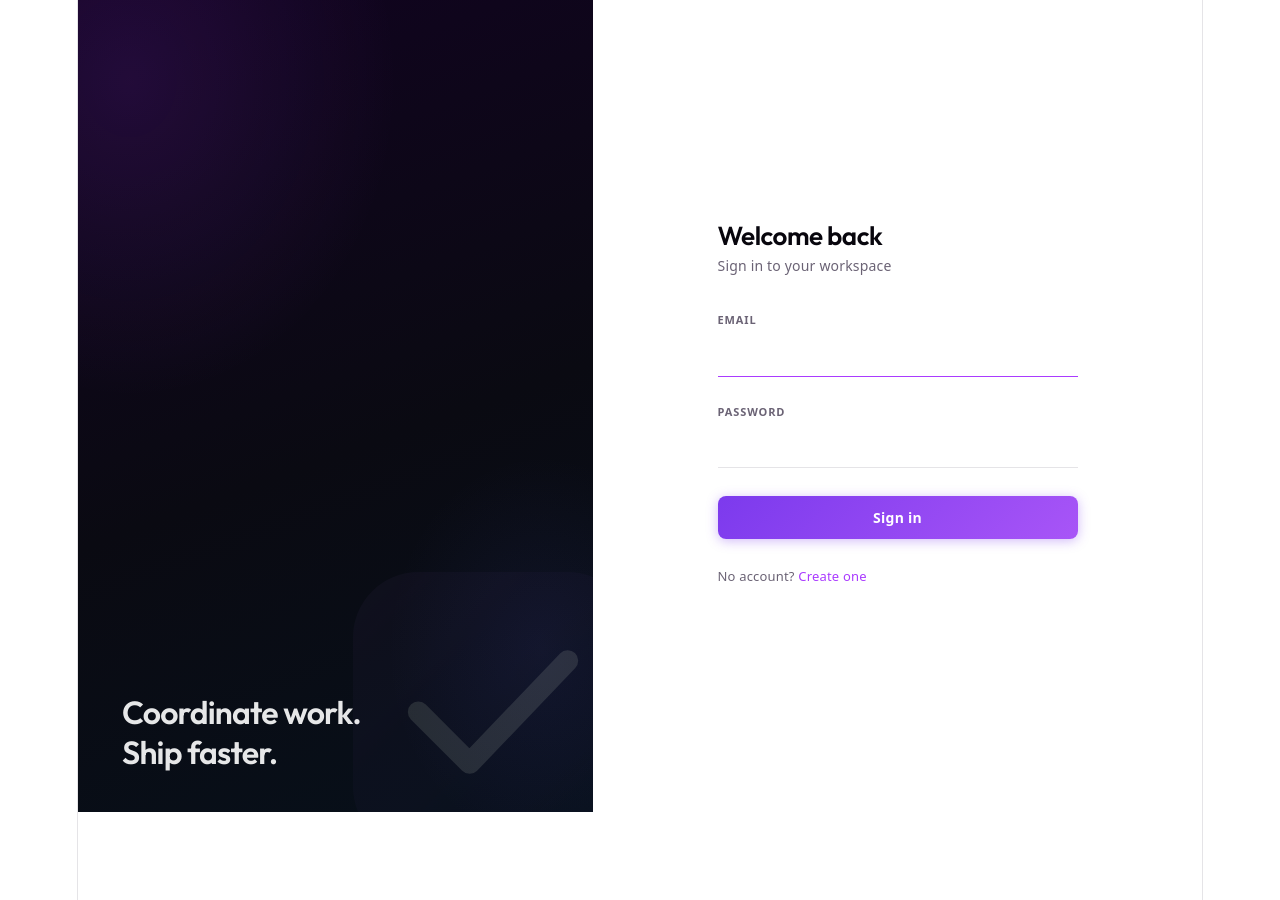
Scenario: LoginPage › shows a generic error on server error
Type "a@b.com" into the field labelled "Email". click: (898,358)
box: [718, 340, 1078, 376]
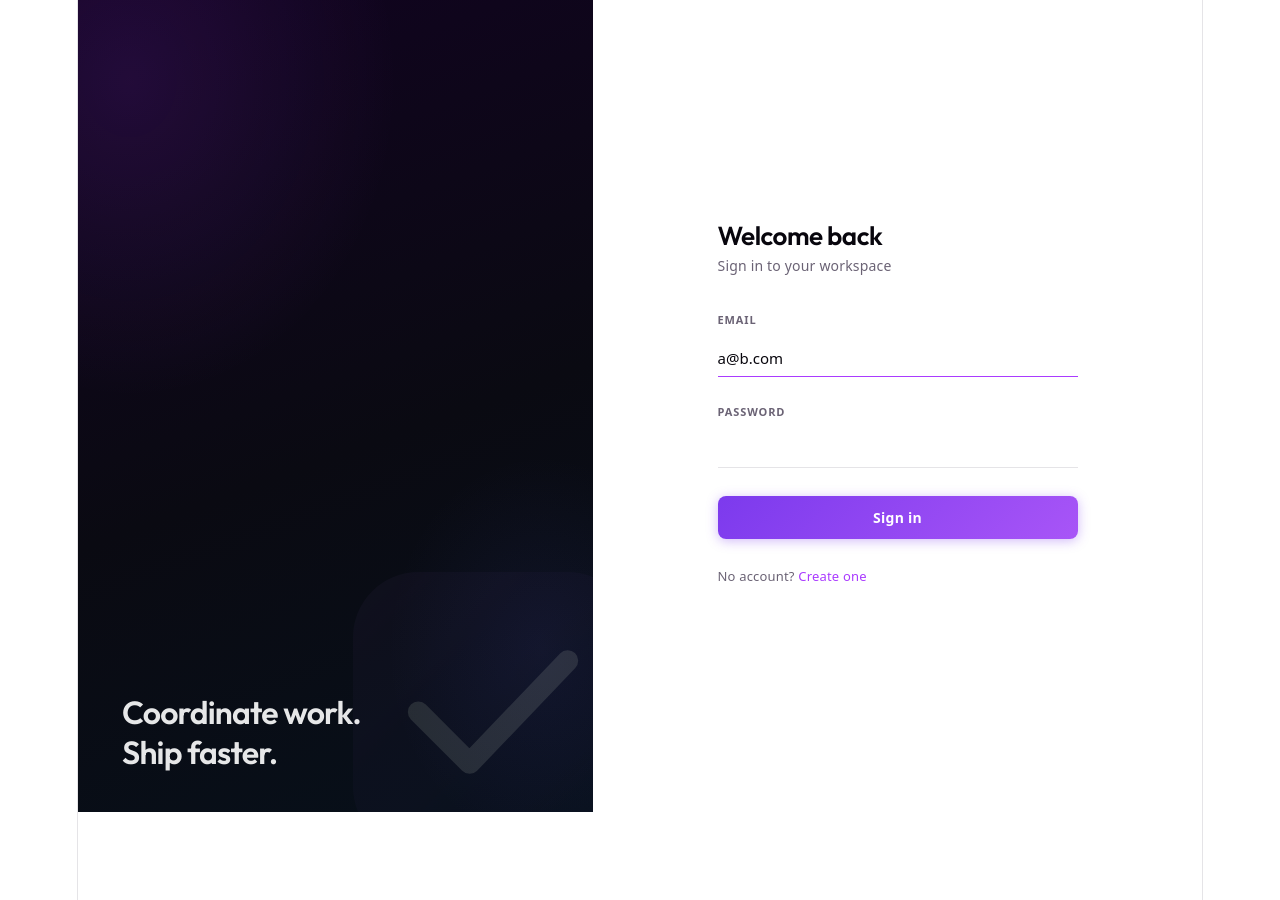
Type "pass" into the password field labelled "Password". click: (898,449)
box: [718, 431, 1078, 468]
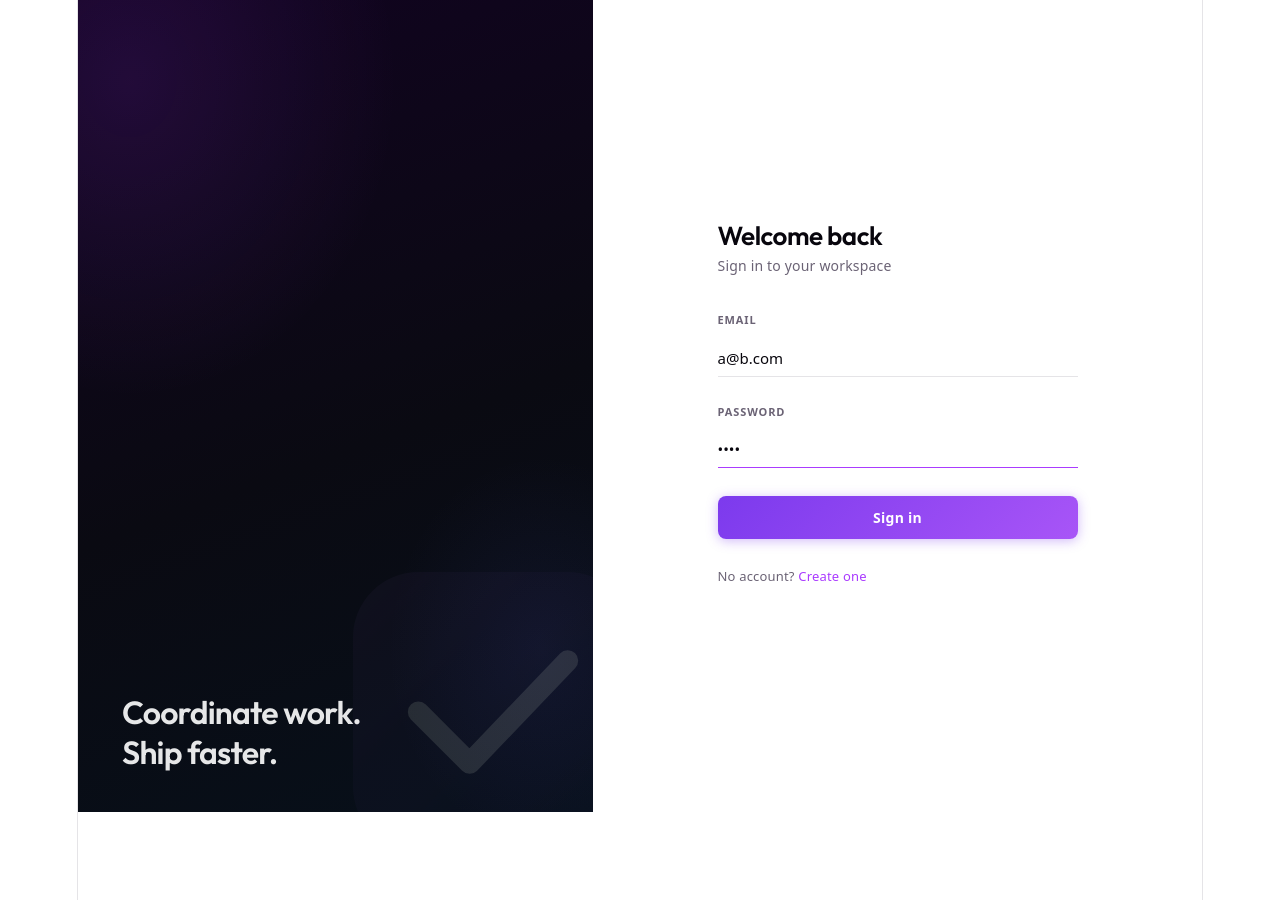
Click the button "Sign in". click: (898,517)
box: [718, 496, 1078, 539]
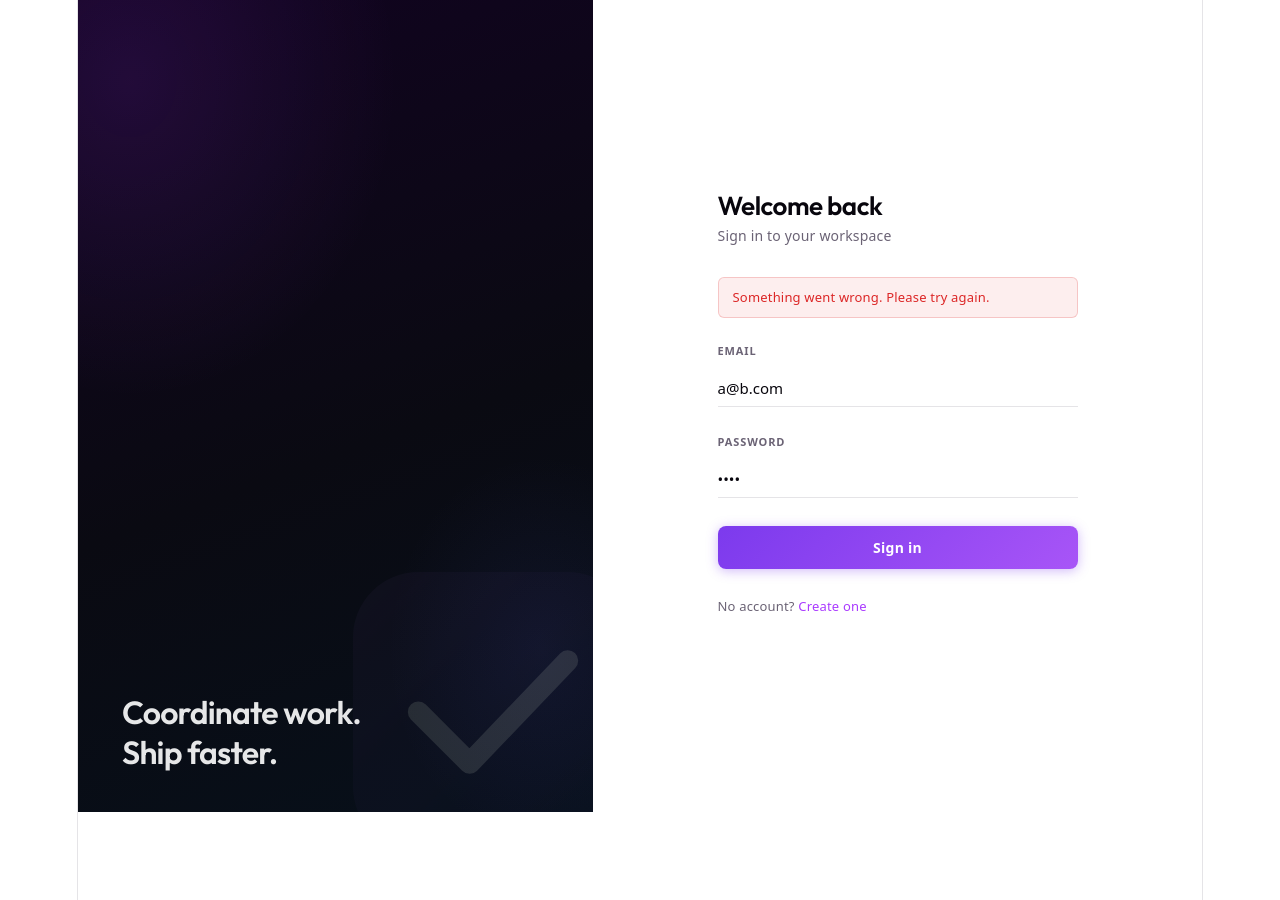
Check: the text "Something went wrong. Please try again." is shown, box [718, 277, 1078, 318]
